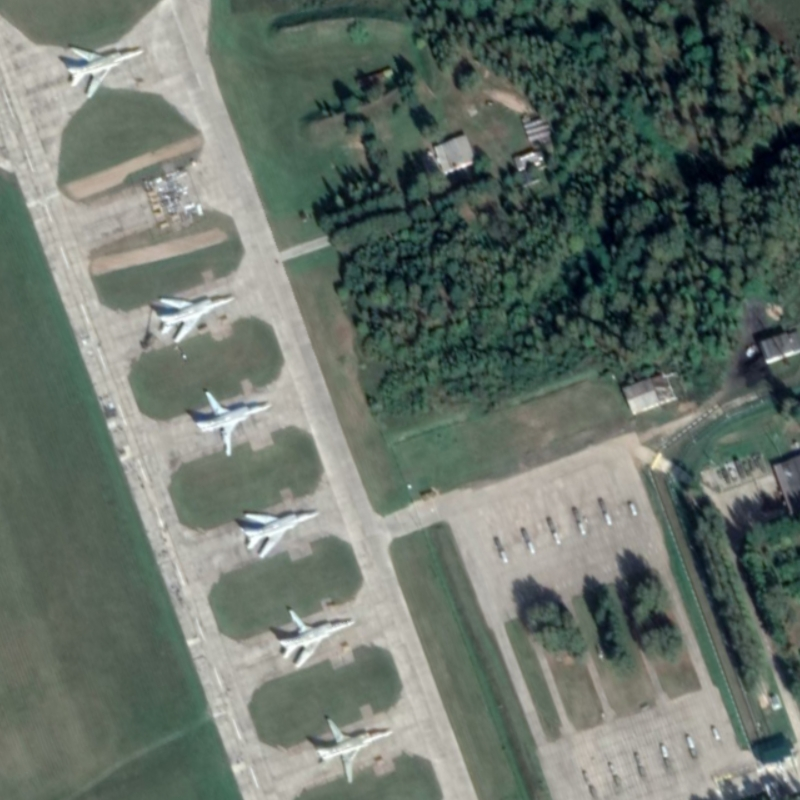A12: (312, 710, 396, 787), (191, 384, 275, 460), (59, 39, 149, 101), (273, 605, 355, 671), (149, 290, 239, 346), (232, 505, 322, 560)
